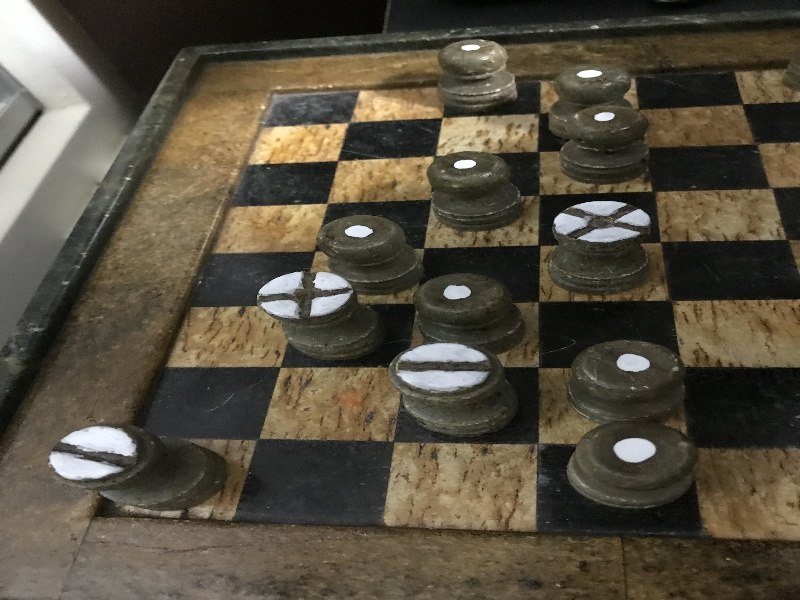WhiteBishop: (257, 270, 383, 361), (547, 200, 650, 292)
WhitePawn: (566, 422, 695, 509), (567, 339, 684, 424), (413, 272, 525, 355), (317, 215, 420, 292), (426, 151, 523, 231), (557, 103, 650, 184), (549, 66, 633, 137), (438, 39, 517, 108)
WhiteRook: (50, 423, 225, 510), (390, 341, 516, 437)
